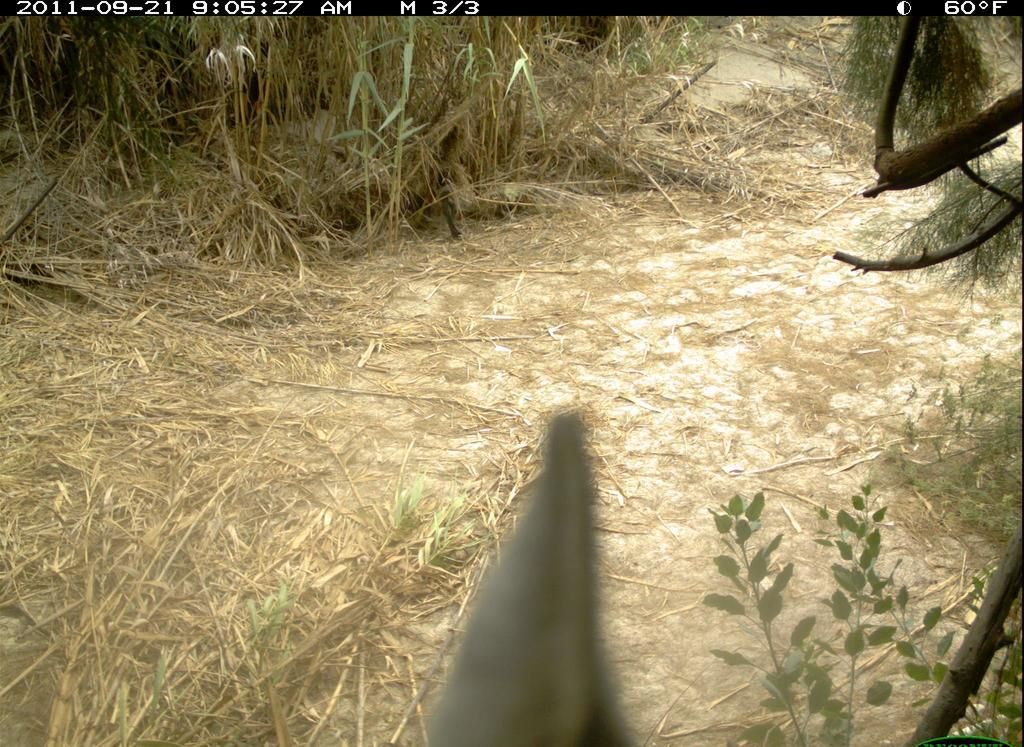bobcat: (443, 392, 678, 747)
